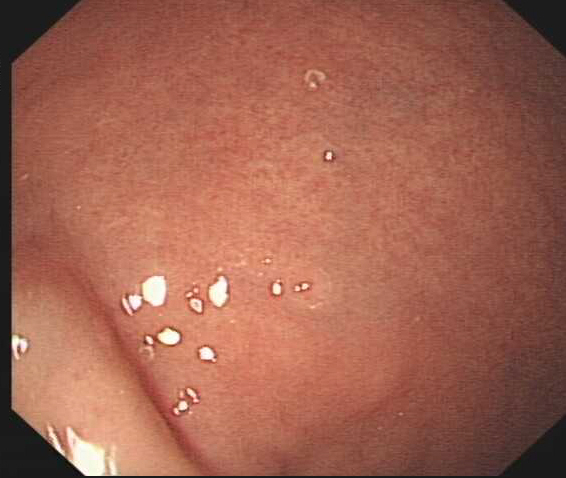others: (278, 256, 332, 307)
